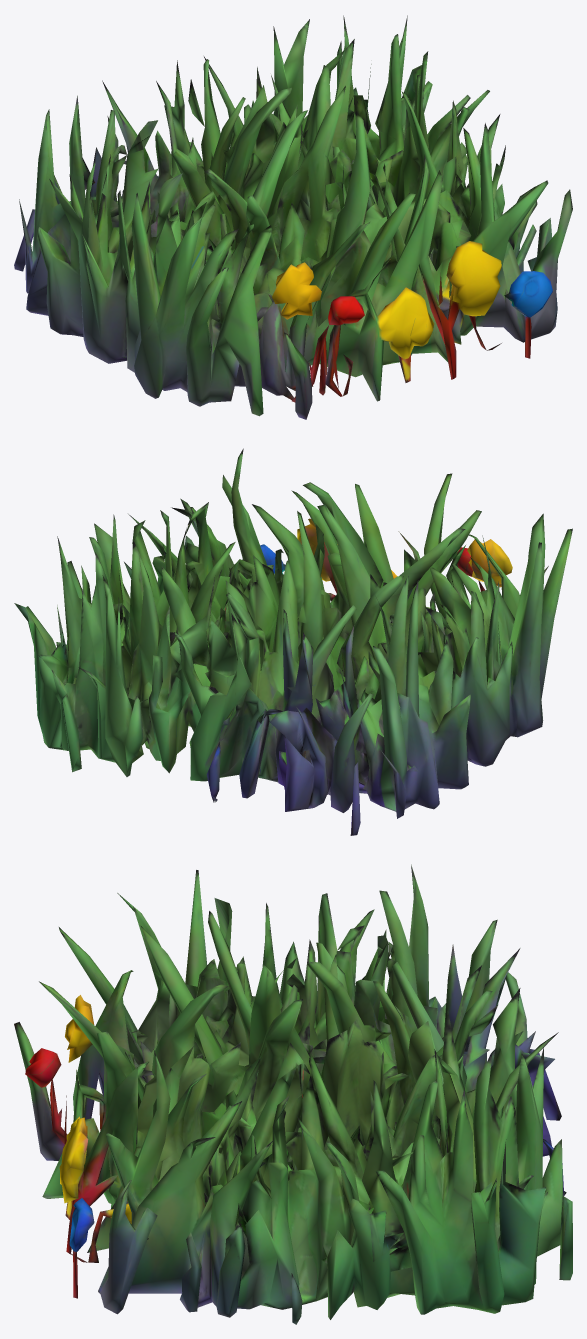
Rendered from Grass.glb.
3 views of the same model, one above another, from view 1: azimuth 30°, elevation 25°; view 2: azimuth 150°, elevation 25°; view 3: azimuth 270°, elevation 25° (orthographic). The views are drawn at different scales.
Size of the model in its own units: 2 by 1.03 by 1.97.
Materials: 1 (1 with a texture image).
